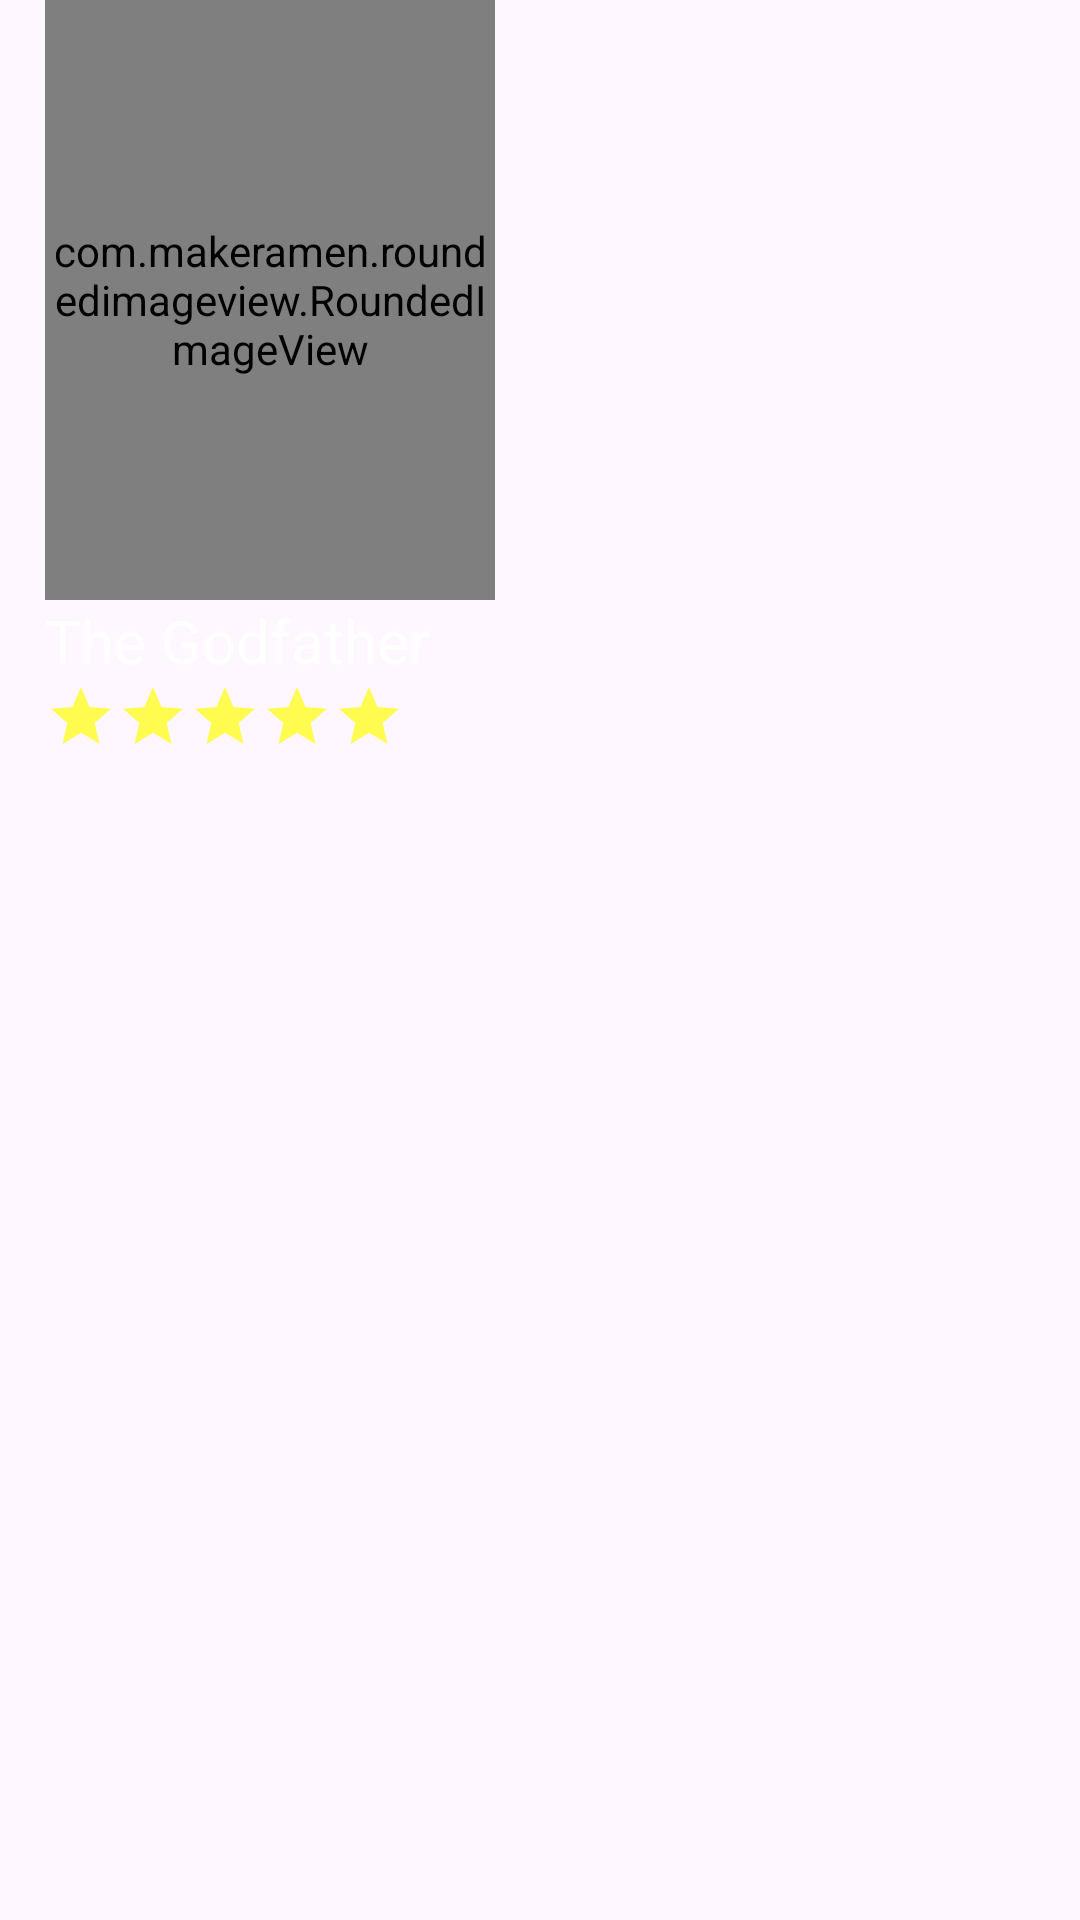

Where icons sit on this 1080*1920 app screen, as [x1, y1, x2, y2]:
star: [51, 687, 111, 744], [123, 687, 183, 744], [195, 687, 255, 744], [267, 687, 327, 744], [339, 687, 399, 744]
